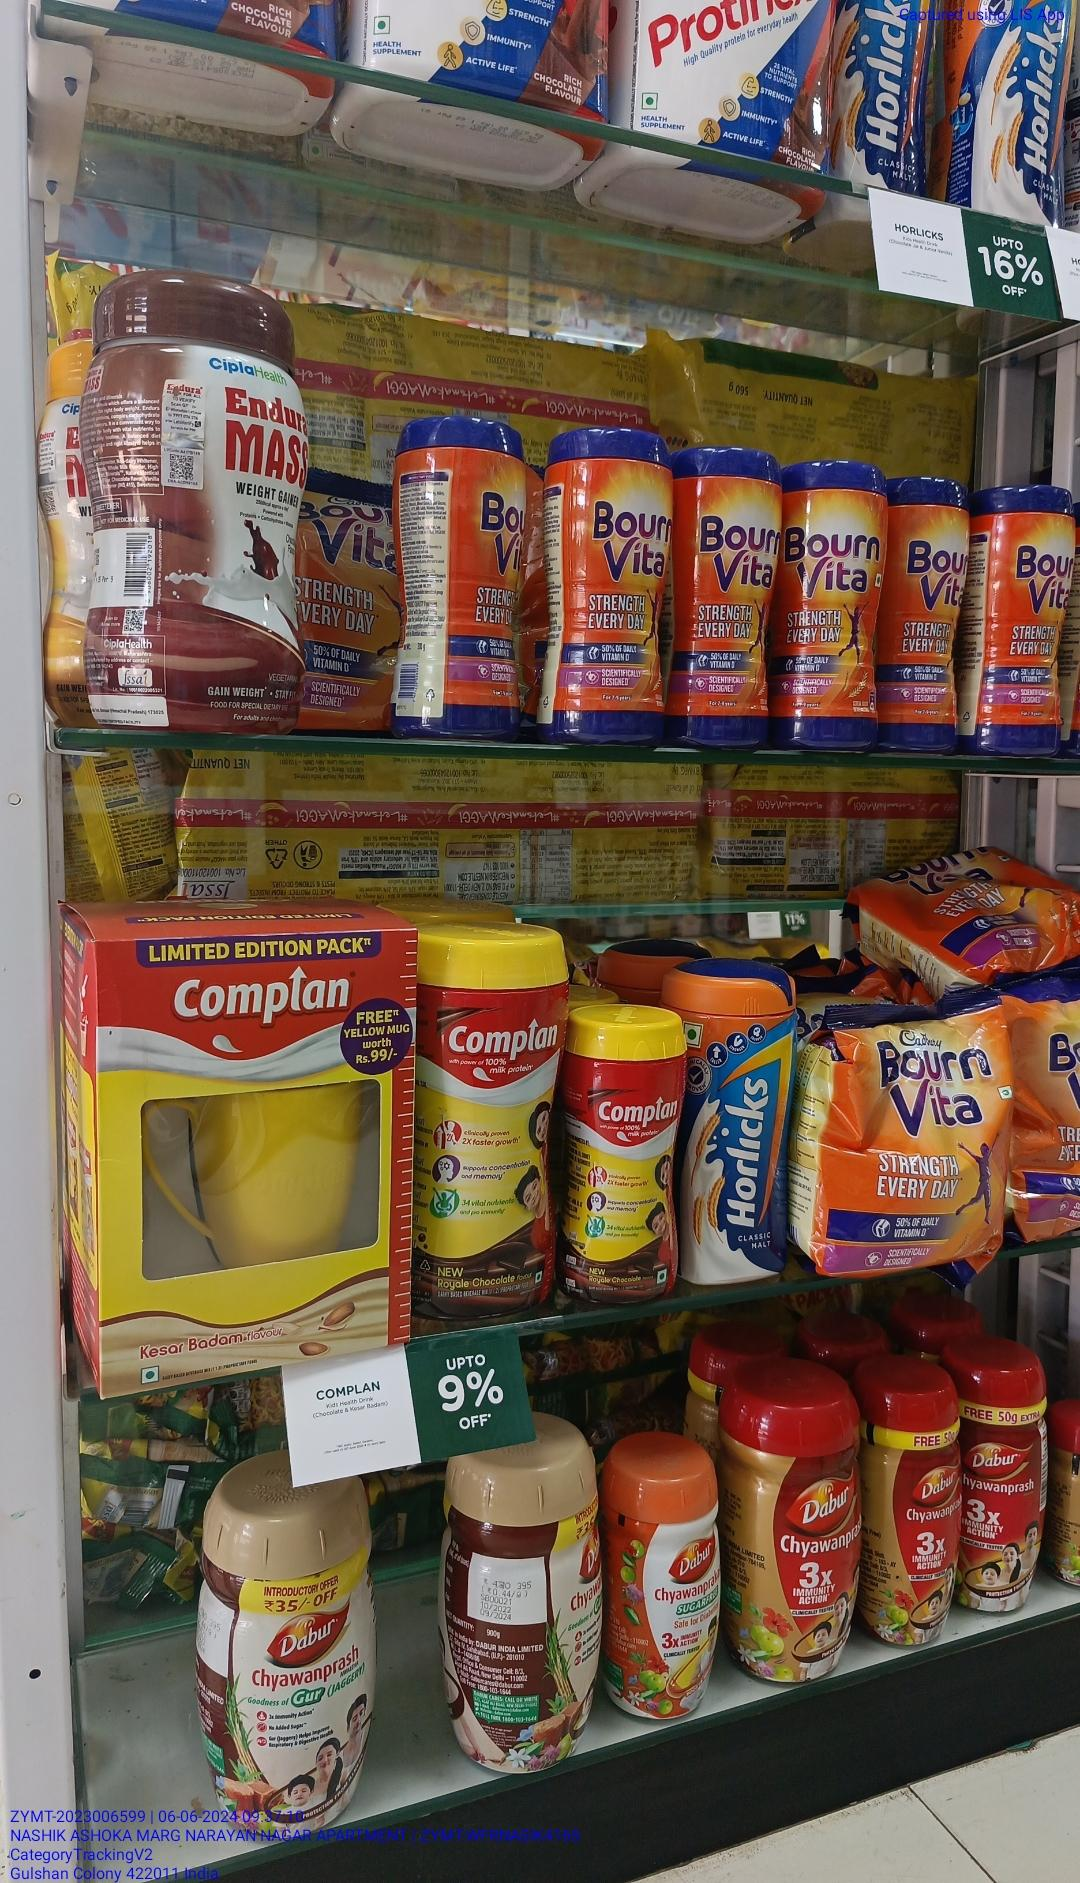BOURN_VITA_1_KG_JAR: (557, 424, 666, 745), (673, 446, 777, 748), (783, 458, 881, 753), (442, 415, 529, 744), (980, 488, 1080, 755), (885, 476, 966, 754)
BOURN_VITA_500_G_POUCH: (814, 989, 1018, 1274)
COMPLAN_CHOCOLATE_500_GMS_JAR: (565, 1004, 680, 1295)
HORLICK_CLASSIC_MALT_500_G_JAR: (687, 961, 788, 1291)
